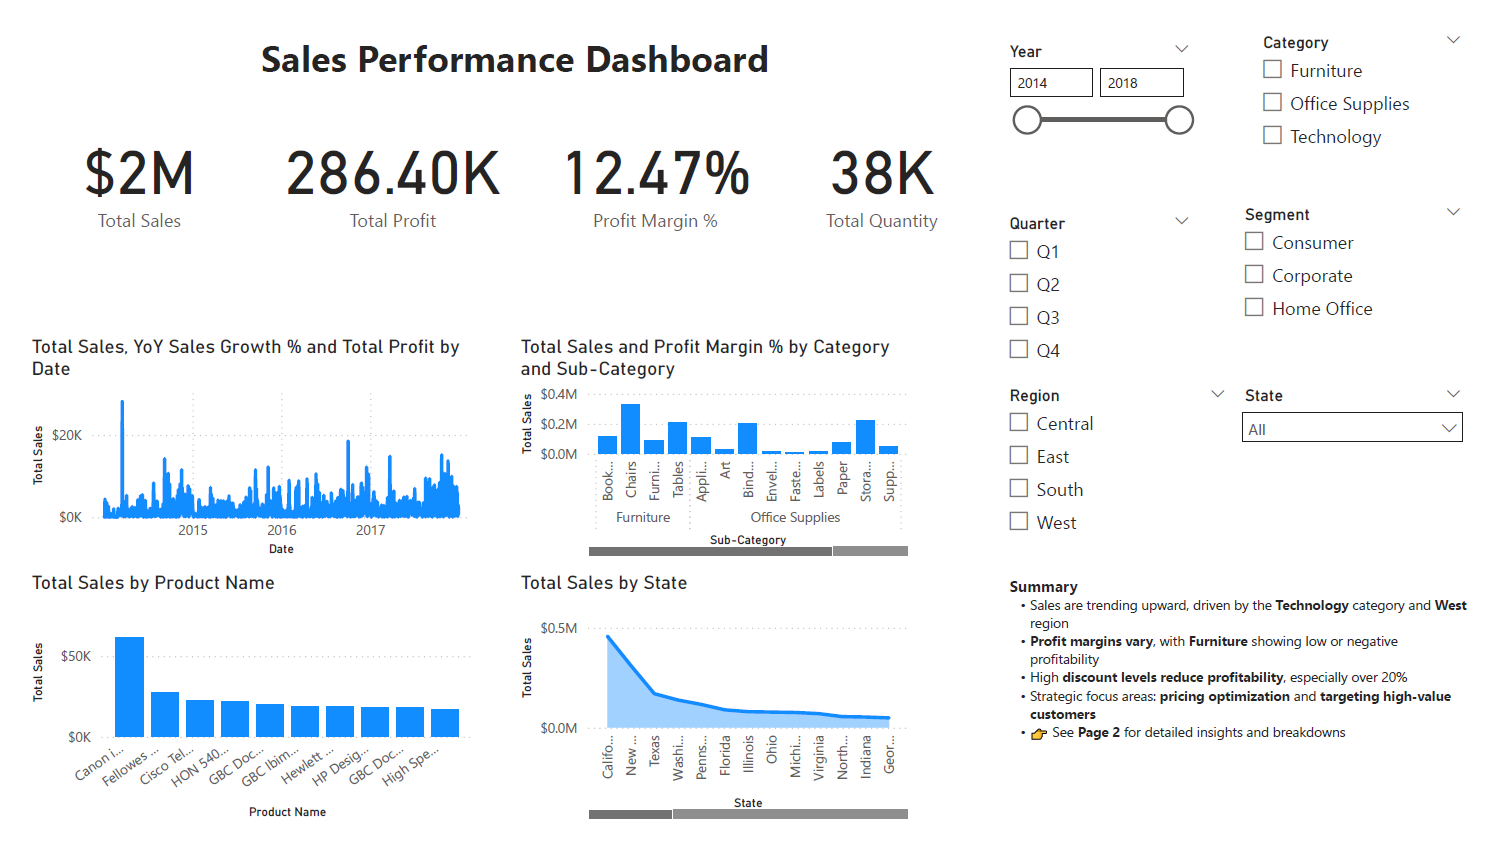

Layout of this report page (visuals, bound fields, positions):
{"tool":"powerbi","page":{"name":"Sales Performance Dashboard","canvas":[1280,720],"ordinal":0},"visuals":[{"type":"card","fields":{"Values":["Date.Total Sales"]},"box":[0,64,200,136],"z":0},{"type":"card","fields":{"Values":["Date.Total Profit"]},"box":[200,64,248,136],"z":1000},{"type":"card","fields":{"Values":["Date.Total Quantity"]},"box":[664,64,184,136],"z":2000},{"type":"textbox","box":[192,0,480,64],"z":3000},{"type":"card","fields":{"Values":["Date.Profit Margin %"]},"box":[448,64,216,136],"z":4000},{"type":"areaChart","fields":{"Category":["Date.Date"],"Y":["Date.Total Sales"]},"box":[0,272,400,200],"z":5000},{"type":"columnChart","fields":{"Category":["Orders.Category","Orders.Sub-Category"],"Y":["Date.Total Sales"]},"box":[432,272,352,200],"z":6000},{"type":"columnChart","fields":{"Category":["Orders.Product Name"],"Y":["Date.Total Sales"]},"box":[0,480,400,224],"z":7000},{"type":"slicer","fields":{"Values":["Orders.Category"]},"box":[1080,0,200,152],"z":8000},{"type":"slicer","fields":{"Values":["Orders.Region"]},"box":[856,312,216,152],"z":9000},{"type":"slicer","fields":{"Values":["Orders.Segment"]},"box":[1064,152,216,152],"z":10000},{"type":"slicer","fields":{"Values":["Date.Year"]},"box":[856,8,184,152],"z":11000},{"type":"slicer","fields":{"Values":["Date.Quarter"]},"box":[856,160,184,152],"z":12000},{"type":"areaChart","fields":{"Category":["Orders.State"],"Y":["Date.Total Sales"]},"box":[432,480,352,224],"z":13000},{"type":"slicer","fields":{"Values":["Orders.State"]},"box":[1064,312,216,168],"z":14000},{"type":"textbox","box":[864,480,416,224],"z":14001}]}

Visuals, with their boxes in screenshot pixels (x1, y1, x2, y2), scaled from the page's 1280x720 canvas onto the 1498x867 screenshot:
card - Date.Total Sales: <box>0,77,234,241</box>
card - Date.Total Profit: <box>234,77,524,241</box>
card - Date.Total Quantity: <box>777,77,992,241</box>
textbox: <box>225,0,786,77</box>
card - Date.Profit Margin %: <box>524,77,777,241</box>
areaChart - Date.Date x Date.Total Sales: <box>0,328,468,568</box>
columnChart - Orders.Category x Orders.Sub-Category: <box>506,328,918,568</box>
columnChart - Orders.Product Name x Date.Total Sales: <box>0,578,468,848</box>
slicer - Orders.Category: <box>1264,0,1497,183</box>
slicer - Orders.Region: <box>1002,376,1255,559</box>
slicer - Orders.Segment: <box>1245,183,1497,366</box>
slicer - Date.Year: <box>1002,10,1217,193</box>
slicer - Date.Quarter: <box>1002,193,1217,376</box>
areaChart - Orders.State x Date.Total Sales: <box>506,578,918,848</box>
slicer - Orders.State: <box>1245,376,1497,578</box>
textbox: <box>1011,578,1497,848</box>
